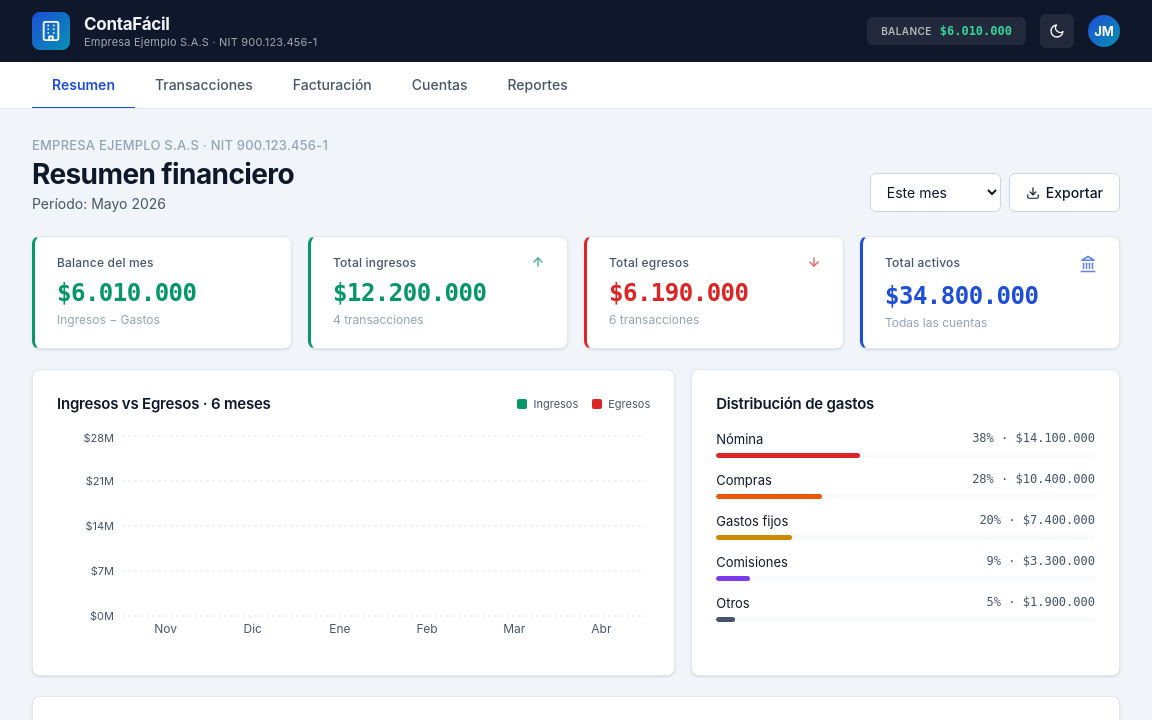
Test case: ContaFácil App › shows the Facturación page with seeded invoices
Click the button "Facturación".
click(332, 86)  # box 273,62 -> 392,109
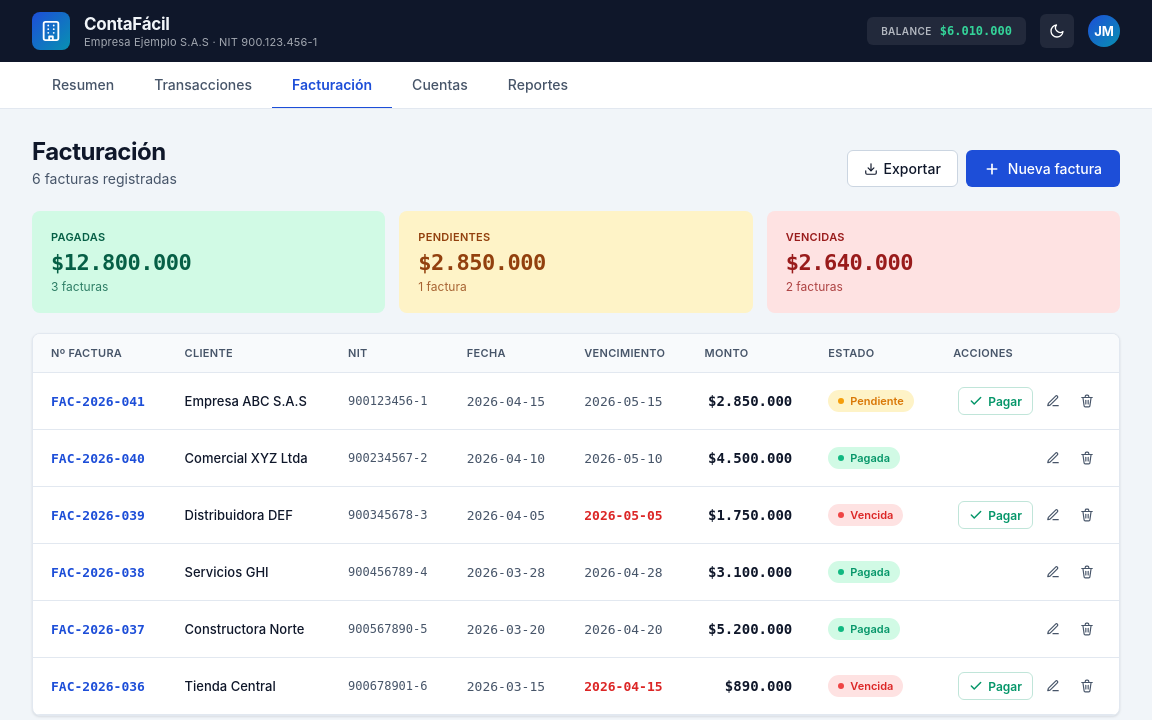
Expected: the text "Empresa ABC S.A.S" is shown, 167,372 -> 330,430
Expected: the text "FAC-2026-041" is shown, 33,372 -> 167,430
